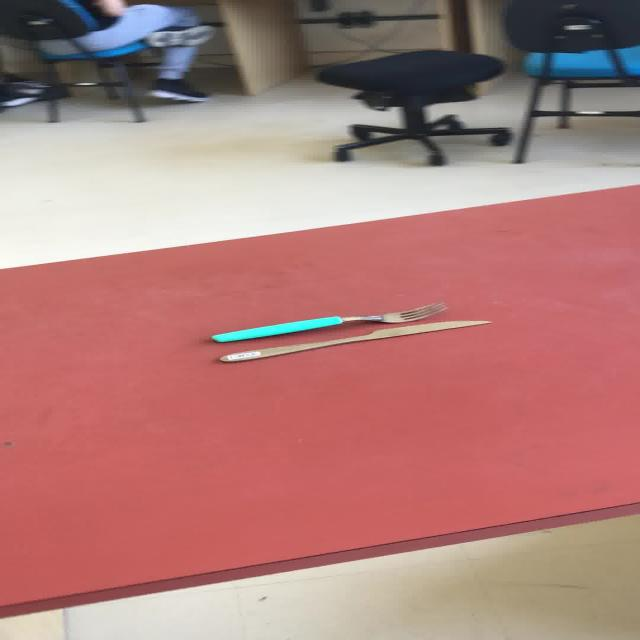fork: (209, 300, 446, 342)
knife fork: (217, 319, 492, 363)
